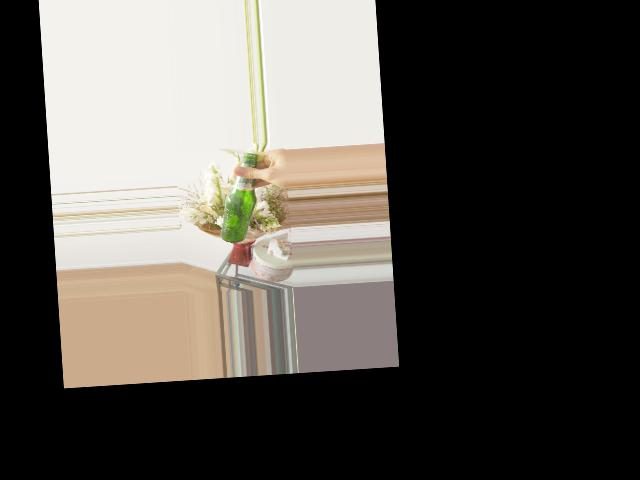beer: (215, 152, 259, 243)
